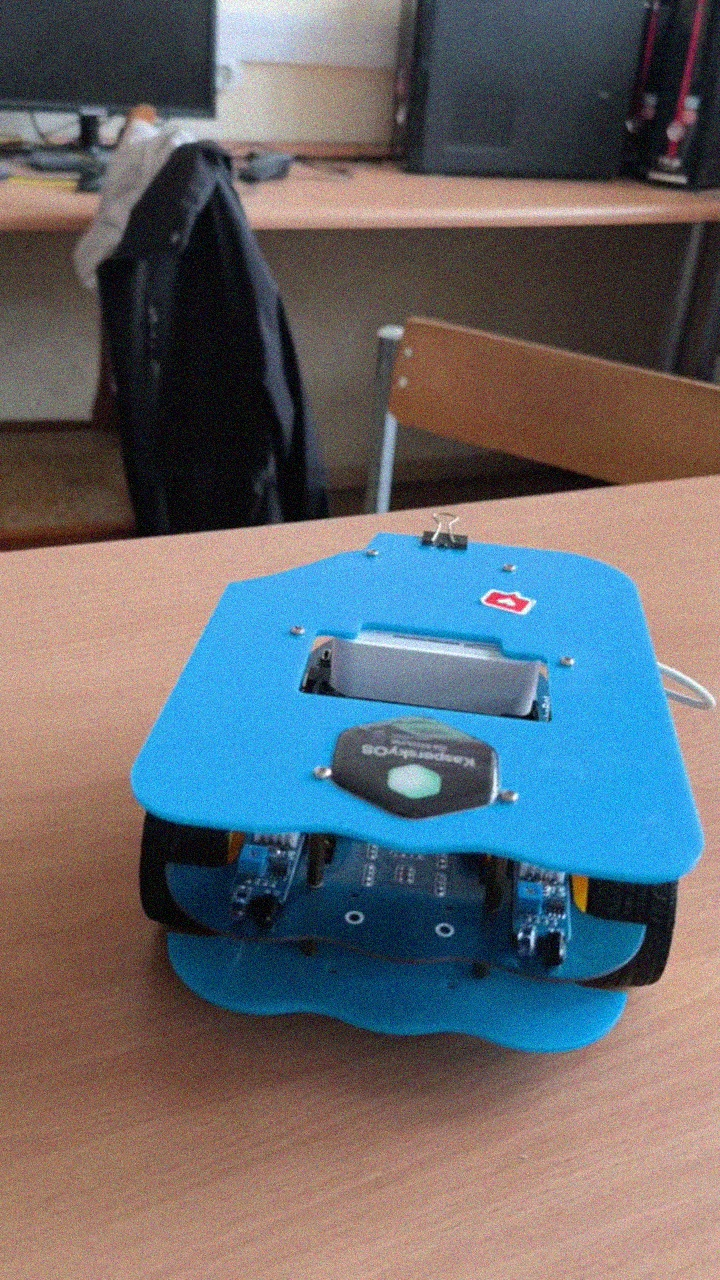robot: (127, 510, 720, 1056)
